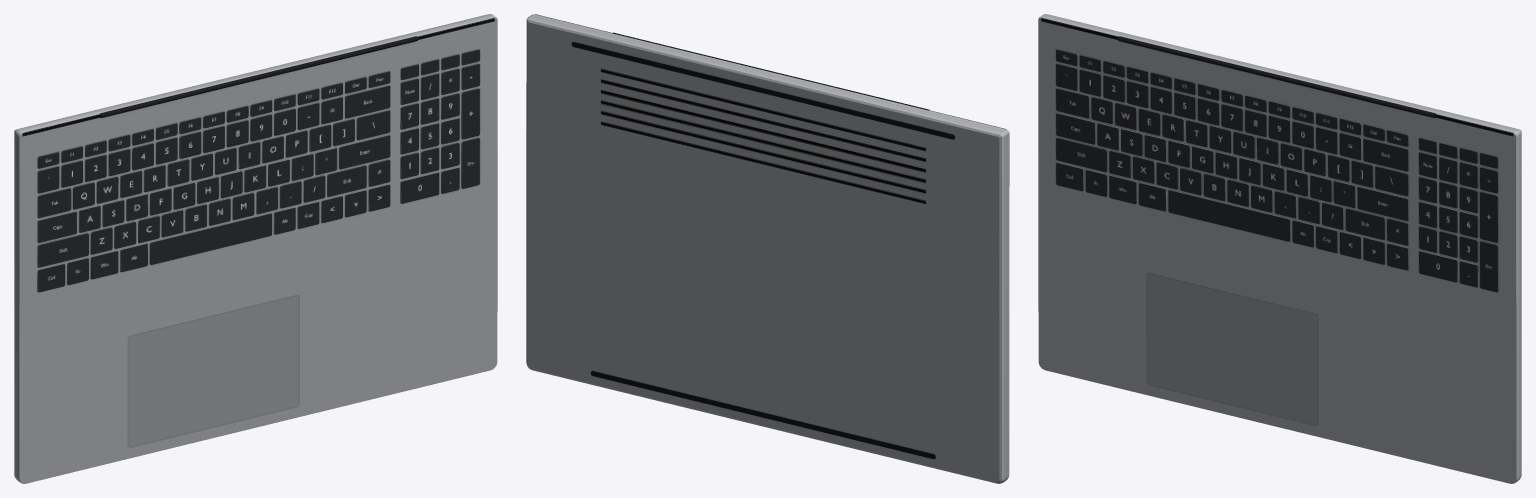
The model's file is body.obj.
3 views of the same model, side by side, from view 1: azimuth 30°, elevation 25°; view 2: azimuth 150°, elevation 25°; view 3: azimuth 330°, elevation 25° (orthographic).
Parts seen in each view (by area): view 1: deck, keys, base.003, hinge, base.004, base.005; view 2: base, base.006, base.003, base.004, hinge; view 3: deck, keys, base.003, hinge, base.002, base.005.
Boxes of the visible parts, x1=… form: deck: x1=19, y1=18, x2=497, y2=483; keys: x1=37, y1=49, x2=479, y2=292; base.003: x1=15, y1=14, x2=496, y2=133; hinge: x1=100, y1=36, x2=417, y2=117; base.004: x1=14, y1=130, x2=20, y2=482; base.005: x1=19, y1=17, x2=497, y2=483; base: x1=526, y1=20, x2=1001, y2=483; base.006: x1=571, y1=42, x2=954, y2=459; base.003: x1=527, y1=14, x2=1008, y2=135; base.004: x1=1000, y1=131, x2=1009, y2=482; hinge: x1=612, y1=32, x2=929, y2=110; deck: x1=1038, y1=18, x2=1516, y2=483; keys: x1=1056, y1=49, x2=1498, y2=292; base.003: x1=1039, y1=14, x2=1520, y2=133; hinge: x1=1118, y1=36, x2=1435, y2=117; base.002: x1=1515, y1=130, x2=1521, y2=482; base.005: x1=1038, y1=17, x2=1516, y2=483.
Bounding box in the file's own units: 358 × 252 × 11.4.
8 materials, 6 textured.
